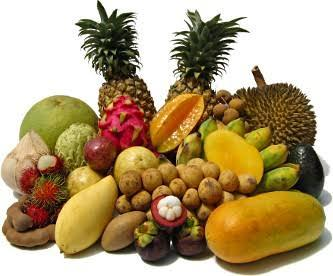chom_chom: (30, 174, 66, 208)
mang_cut: (135, 221, 173, 262)
thanh_long: (101, 93, 147, 147)
xoai: (51, 170, 120, 255)
